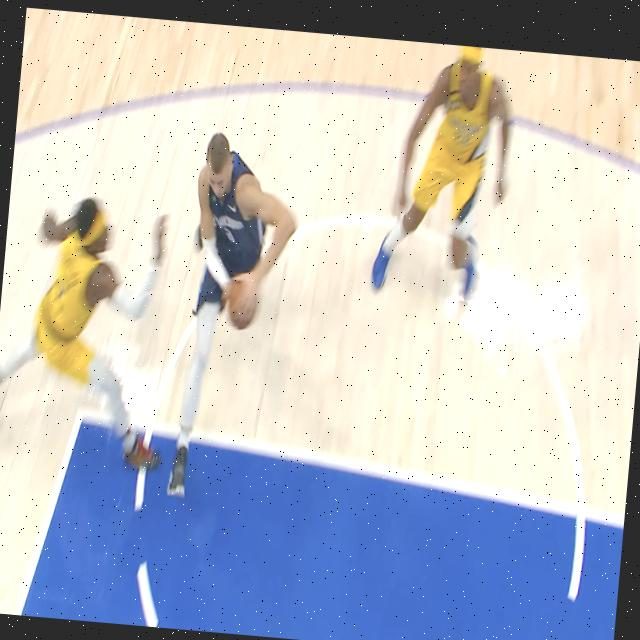no foul: (0, 92, 317, 549)
